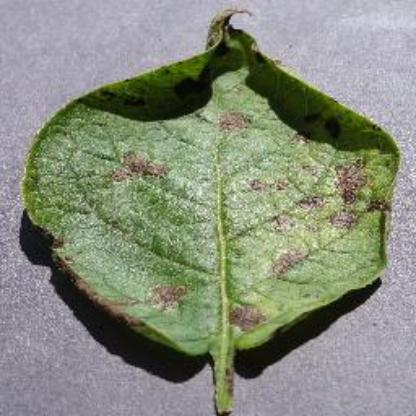Early-Blight: (22, 5, 398, 411)
